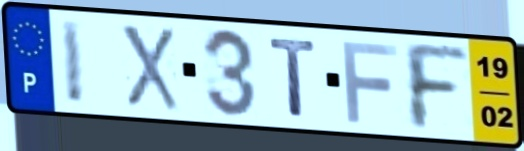3: (199, 26, 259, 121)
F: (398, 39, 472, 134), (339, 37, 401, 126)
I: (57, 17, 87, 106)
T: (267, 36, 320, 120)
X: (117, 21, 182, 114)
